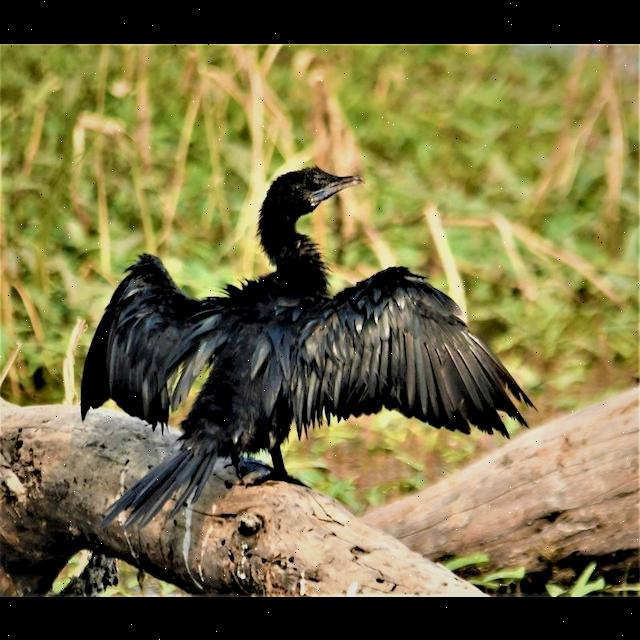cormorant: (77, 142, 540, 536)
